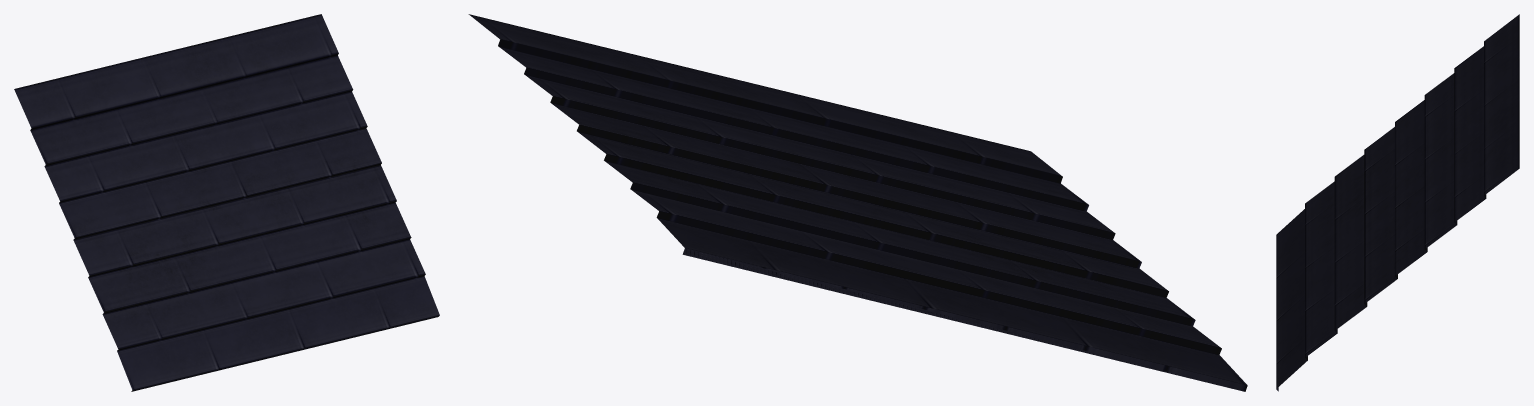
The model's file is Roof_THREE_BY_TWO.fbx.
3 renders of one model, left to right at view 1: azimuth 30°, elevation 25°; view 2: azimuth 150°, elevation 25°; view 3: azimuth 270°, elevation 25°, orthographic. The views are drawn at different scales.
Parts seen in each view (by area): view 1: Roof_THREE_BY_TWO1; view 2: Roof_THREE_BY_TWO1; view 3: Roof_THREE_BY_TWO1.
Boxes of the visible parts, box(x1,y1,x2,y2) form: Roof_THREE_BY_TWO1: box(14, 14, 439, 391); Roof_THREE_BY_TWO1: box(468, 14, 1247, 391); Roof_THREE_BY_TWO1: box(1276, 14, 1519, 391).
Size of the model in its own units: 3 by 2.02 by 2.
